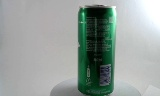sprite: (71, 3, 110, 95)
